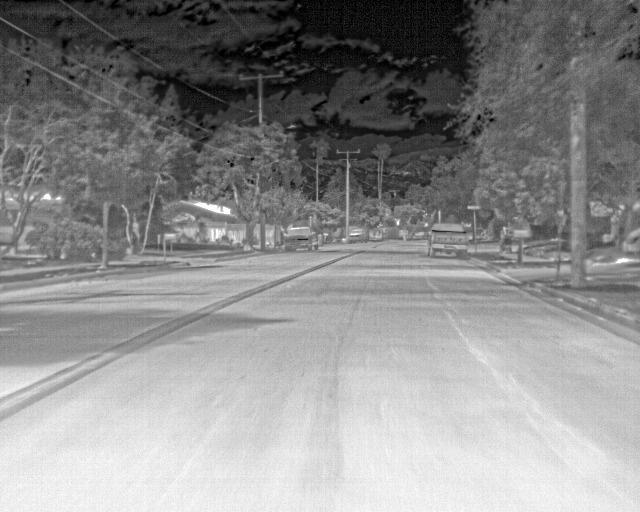car: (427, 221, 472, 258), (282, 225, 318, 251), (348, 228, 369, 244)
